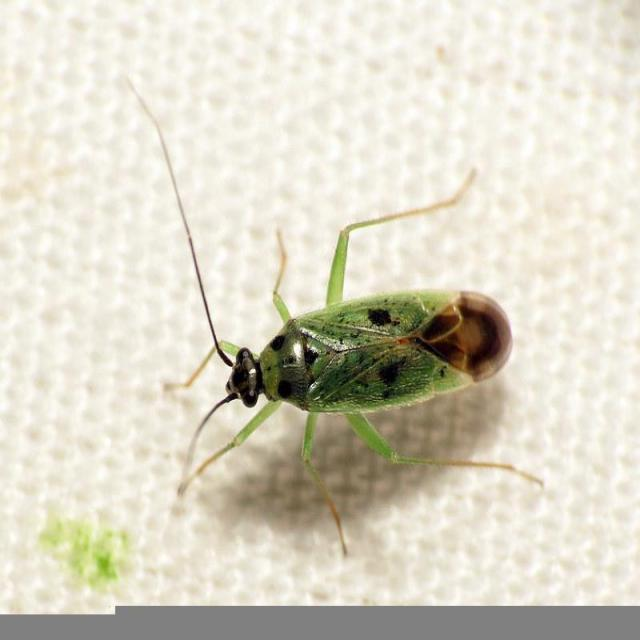Miridae-Adult-: (157, 150, 548, 549)
